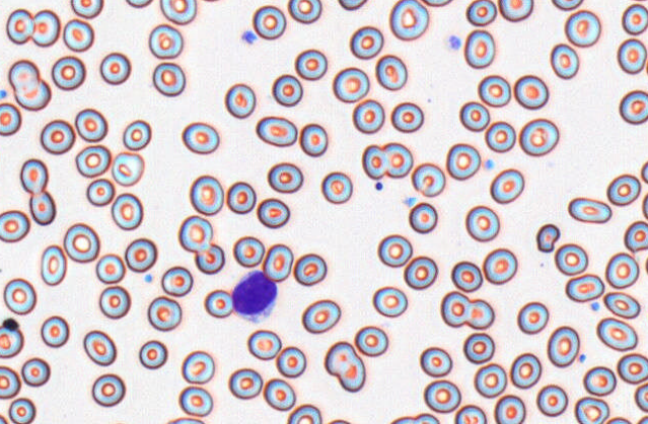MONO: (231, 269, 281, 325)
PLT: (447, 34, 464, 51), (241, 31, 257, 46), (483, 159, 497, 172), (403, 196, 418, 207), (142, 273, 153, 285), (589, 301, 602, 311), (577, 354, 588, 365), (374, 181, 385, 191)
RBC: (8, 59, 51, 111), (324, 340, 365, 392), (518, 117, 559, 156), (389, 0, 428, 40), (63, 222, 99, 262), (189, 174, 224, 215), (596, 316, 637, 351), (564, 9, 601, 47), (332, 66, 369, 103), (301, 298, 340, 333), (547, 325, 579, 367), (255, 115, 297, 147), (482, 247, 517, 284), (178, 214, 212, 252), (423, 379, 461, 413), (605, 251, 639, 289), (446, 142, 480, 180), (148, 23, 183, 59), (465, 205, 499, 242), (3, 277, 36, 315), (110, 192, 143, 230), (181, 121, 219, 154), (463, 29, 495, 68), (513, 74, 548, 109), (40, 119, 75, 154), (489, 168, 524, 203), (473, 362, 507, 398), (147, 295, 181, 331), (83, 329, 116, 366), (262, 243, 293, 282), (51, 55, 85, 90), (377, 233, 412, 267), (411, 162, 445, 197), (252, 4, 286, 39), (75, 144, 111, 177), (567, 196, 611, 223), (509, 352, 541, 389), (403, 255, 437, 289), (91, 373, 125, 407), (349, 25, 383, 59), (74, 107, 107, 142), (111, 151, 144, 186), (606, 173, 641, 206), (124, 237, 157, 272), (267, 161, 303, 193), (375, 54, 407, 90), (565, 273, 604, 302), (293, 252, 327, 285), (181, 350, 214, 384), (152, 62, 185, 96), (477, 74, 511, 107), (352, 98, 384, 133), (372, 285, 407, 317), (616, 37, 646, 74), (263, 377, 295, 411), (228, 367, 262, 399), (554, 243, 588, 275), (98, 285, 130, 319), (99, 51, 131, 85), (178, 385, 213, 416), (224, 83, 255, 118), (382, 142, 412, 178), (440, 290, 469, 327), (31, 9, 60, 46), (40, 244, 66, 285), (62, 18, 94, 51), (450, 260, 483, 292), (536, 384, 568, 417), (516, 301, 548, 334), (271, 73, 303, 106), (294, 48, 327, 80), (354, 325, 388, 356), (256, 197, 290, 228), (247, 329, 281, 360), (582, 365, 616, 396), (5, 8, 34, 44), (19, 158, 48, 194), (550, 43, 579, 79), (603, 291, 640, 319), (161, 265, 193, 297), (484, 120, 516, 152), (275, 345, 306, 378), (419, 346, 452, 377), (390, 101, 423, 132), (463, 332, 494, 364), (233, 235, 264, 267), (616, 352, 647, 384), (321, 171, 352, 203), (0, 209, 30, 242), (226, 181, 256, 214), (299, 122, 328, 156), (0, 317, 24, 358), (619, 89, 647, 124), (459, 100, 490, 131), (28, 191, 56, 225), (574, 396, 609, 423), (194, 243, 224, 274), (95, 253, 125, 284), (408, 201, 437, 233), (40, 315, 69, 347), (493, 394, 525, 423), (361, 144, 387, 179), (122, 119, 151, 150), (159, 0, 196, 24), (21, 356, 50, 386), (138, 339, 167, 369), (466, 298, 494, 329), (204, 289, 233, 318), (465, 0, 497, 26), (621, 3, 647, 35), (86, 178, 114, 206), (287, 0, 321, 23), (498, 0, 533, 22), (8, 397, 36, 423), (286, 403, 322, 423), (0, 102, 21, 136), (0, 365, 21, 399), (454, 404, 486, 423), (70, 0, 103, 18), (634, 382, 647, 412), (551, 0, 583, 10), (338, 0, 367, 10), (413, 413, 440, 423), (167, 416, 204, 423), (125, 0, 153, 8), (422, 0, 452, 7), (604, 416, 631, 423), (389, 416, 415, 423), (640, 160, 647, 183), (642, 192, 647, 220), (326, 418, 350, 423), (644, 253, 648, 275), (636, 415, 647, 423), (0, 413, 8, 423), (201, 0, 224, 2)
Schistocyte: (623, 220, 648, 254), (536, 223, 560, 254)
